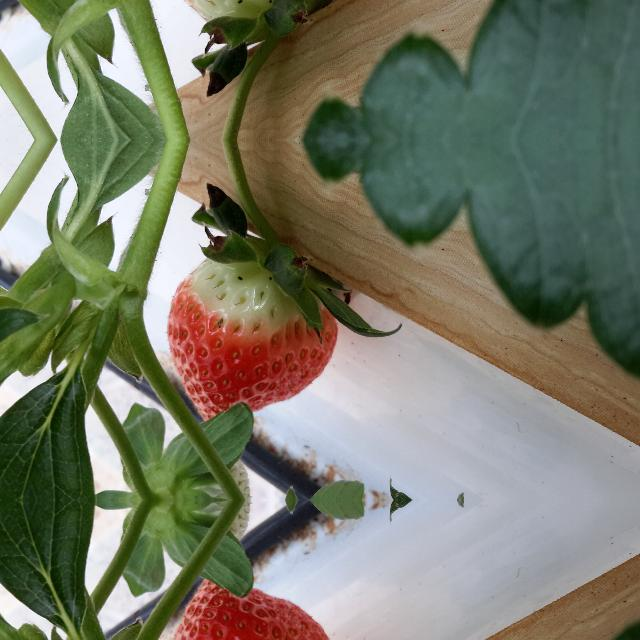Health_100: (167, 260, 337, 422), (167, 578, 337, 640)
